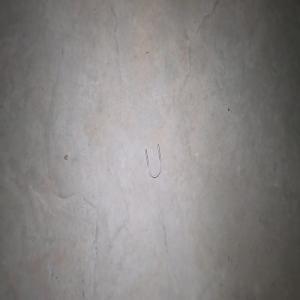ClampPart: (144, 143, 161, 178)
